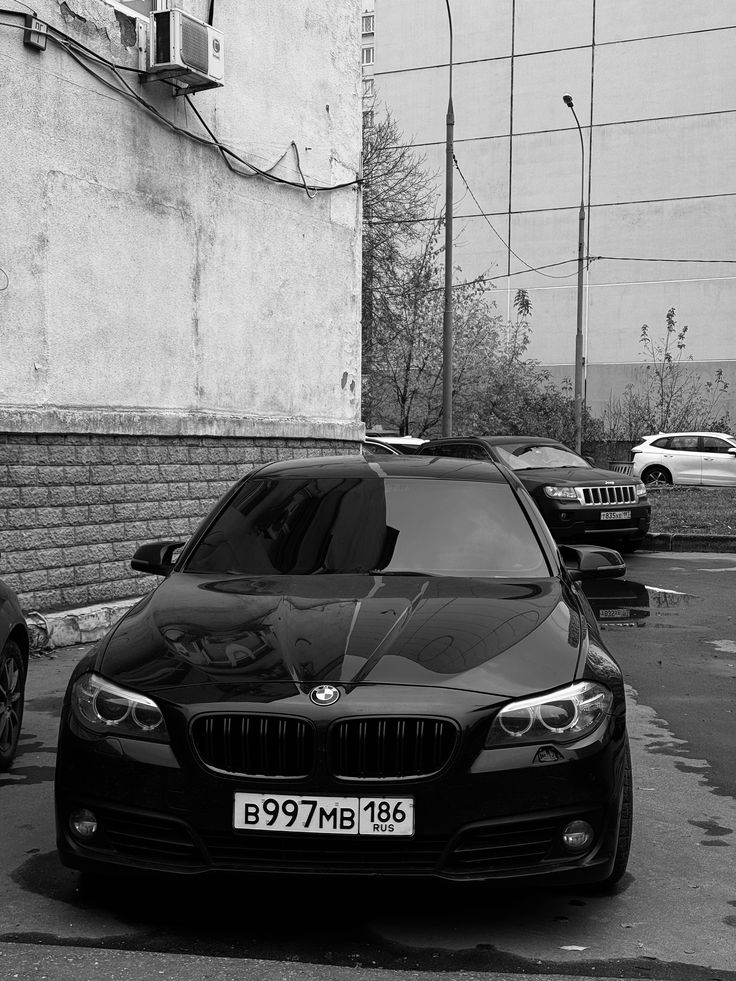plate: (230, 798, 416, 832)
